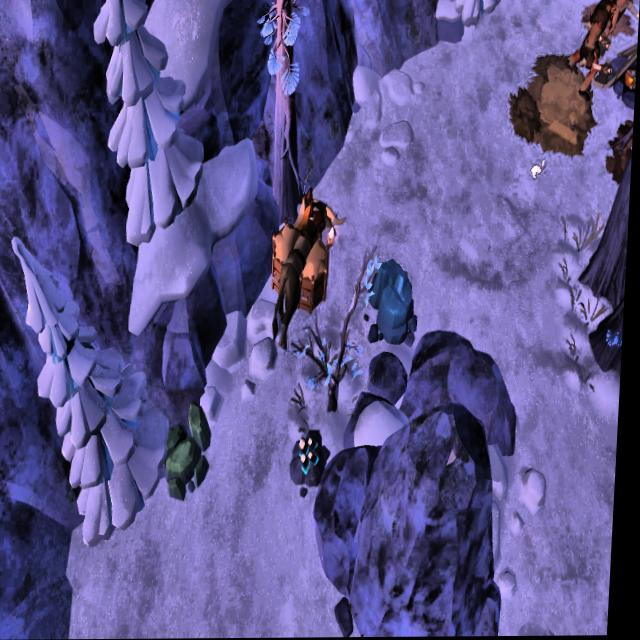enemy_factionKeeper: (569, 0, 618, 79)
ore_t4: (302, 435, 325, 475)
rock_t3: (160, 393, 223, 504)
rock_t4: (366, 257, 420, 348)
